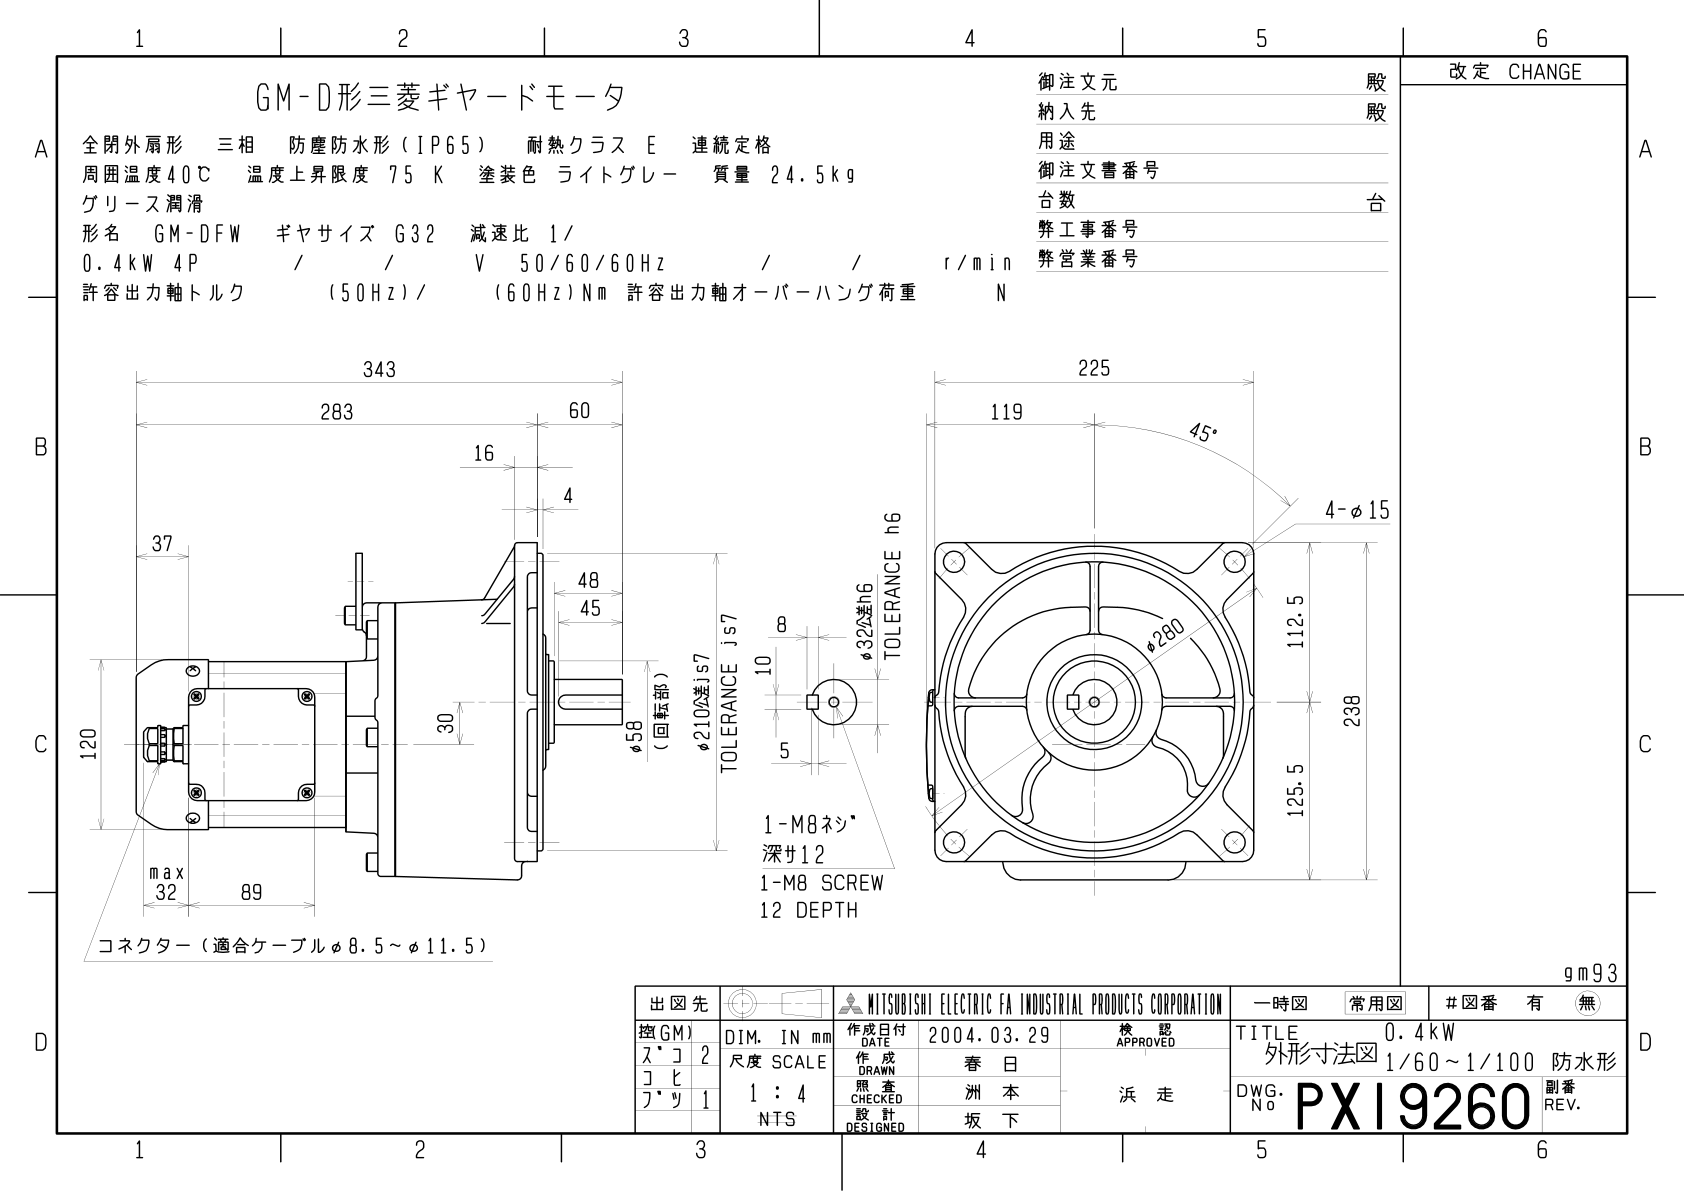GM_D_IP65_三相_フランジ: (1, 1, 1678, 1169)
